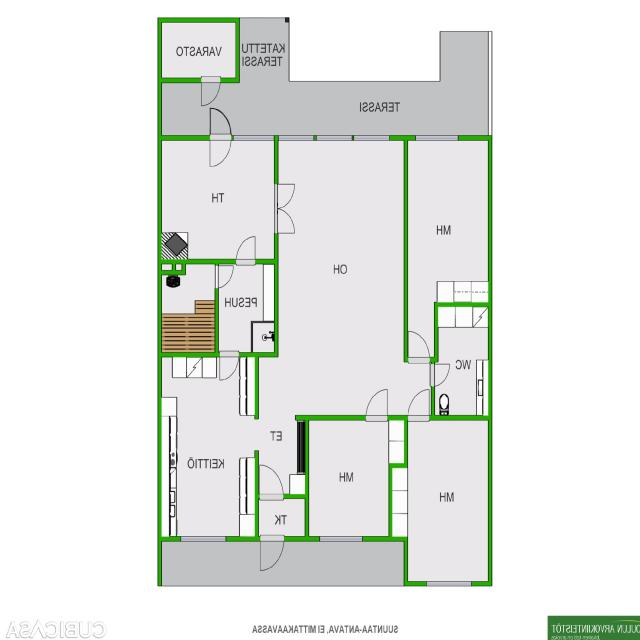door: (260, 537, 285, 573), (260, 462, 284, 499), (210, 135, 232, 168), (210, 107, 232, 140), (366, 387, 388, 420), (408, 388, 429, 420), (409, 330, 430, 361), (220, 353, 239, 382), (274, 208, 296, 233), (237, 234, 255, 264), (202, 78, 220, 108), (274, 184, 296, 208), (431, 364, 451, 386), (215, 266, 235, 288)
